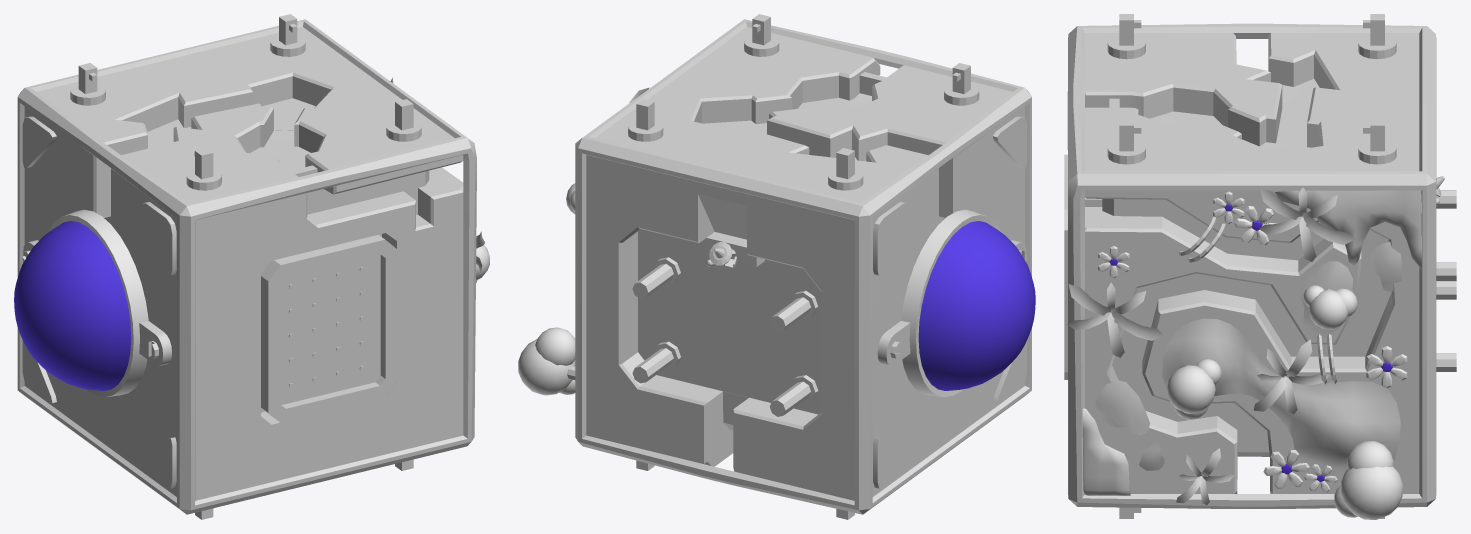
3 renders of one model, left to right at view 1: azimuth 30°, elevation 25°; view 2: azimuth 150°, elevation 25°; view 3: azimuth 270°, elevation 25°, orthographic. The views are drawn at different scales.
Parts seen in each view (by area): view 1: FinalCube.002, Cube.009, Sphere, Plane, Cube.002, Cube.015, Cube.018, Cube.017, Cube.022, Plane.001; view 2: FinalCube.002, Sphere, Plane, Cube.012, Cylinder.006, Cylinder.005, Cube.013, Cube.002, Cube.017, Cube.022, Cube.018, Cube.015; view 3: FinalCube.002, Plane.002, Plane.005, Cube.012, Plane.003, Cube.010, Plane.007, Cube.008, Plane.004, Cube.017, Cube.018, Cube.022 (+17 smaller).
Part boxes in pixels (left/top/right/bottom): FinalCube.002: left=17, top=19, right=476, bottom=514; Cube.009: left=261, top=235, right=397, bottom=422; Sphere: left=14, top=209, right=148, bottom=397; Plane: left=22, top=116, right=176, bottom=488; Cube.002: left=23, top=240, right=171, bottom=366; Cube.015: left=70, top=63, right=105, bottom=105; Cube.018: left=186, top=148, right=221, bottom=190; Cube.017: left=386, top=99, right=421, bottom=141; Cube.022: left=270, top=14, right=305, bottom=56; Plane.001: left=288, top=266, right=364, bottom=388; FinalCube.002: left=575, top=19, right=1031, bottom=514; Sphere: left=901, top=209, right=1035, bottom=397; Plane: left=873, top=116, right=1026, bottom=488; Cube.012: left=518, top=327, right=575, bottom=395; Cylinder.006: left=632, top=341, right=818, bottom=416; Cylinder.005: left=632, top=257, right=818, bottom=332; Cube.013: left=705, top=232, right=764, bottom=268; Cube.002: left=877, top=240, right=1026, bottom=366; Cube.017: left=744, top=14, right=779, bottom=56; Cube.022: left=628, top=99, right=663, bottom=141; Cube.018: left=944, top=63, right=979, bottom=105; Cube.015: left=828, top=148, right=863, bottom=190; FinalCube.002: left=1067, top=23, right=1436, bottom=508; Plane.002: left=1162, top=318, right=1400, bottom=482; Plane.005: left=1274, top=190, right=1421, bottom=269; Cube.012: left=1334, top=441, right=1403, bottom=519; Plane.003: left=1082, top=408, right=1130, bottom=495; Cube.010: left=1167, top=359, right=1221, bottom=419; Plane.007: left=1095, top=379, right=1149, bottom=435; Cube.008: left=1303, top=285, right=1357, bottom=329; Plane.004: left=1297, top=261, right=1353, bottom=337; Cube.017: left=1107, top=119, right=1145, bottom=164; Cube.018: left=1107, top=14, right=1145, bottom=59; Cube.022: left=1358, top=119, right=1396, bottom=164.
Bounding box in the file's own units: 310 × 242 × 218.
